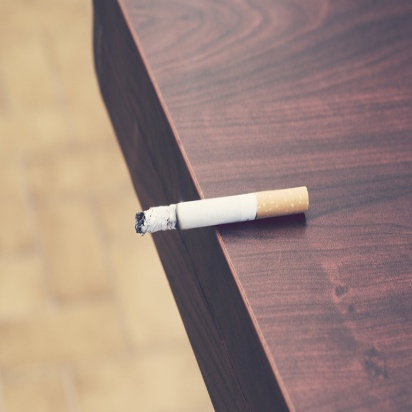cigarette: (125, 183, 320, 238)
